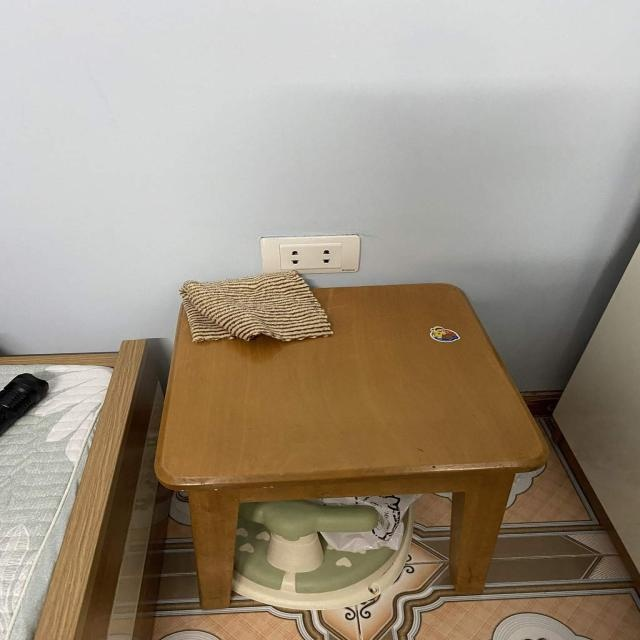outlet: (260, 234, 360, 274)
